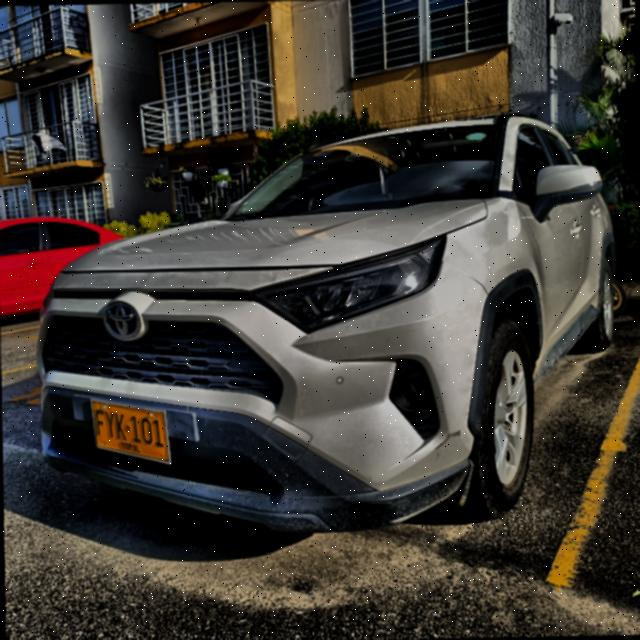plate: (92, 402, 167, 460)
